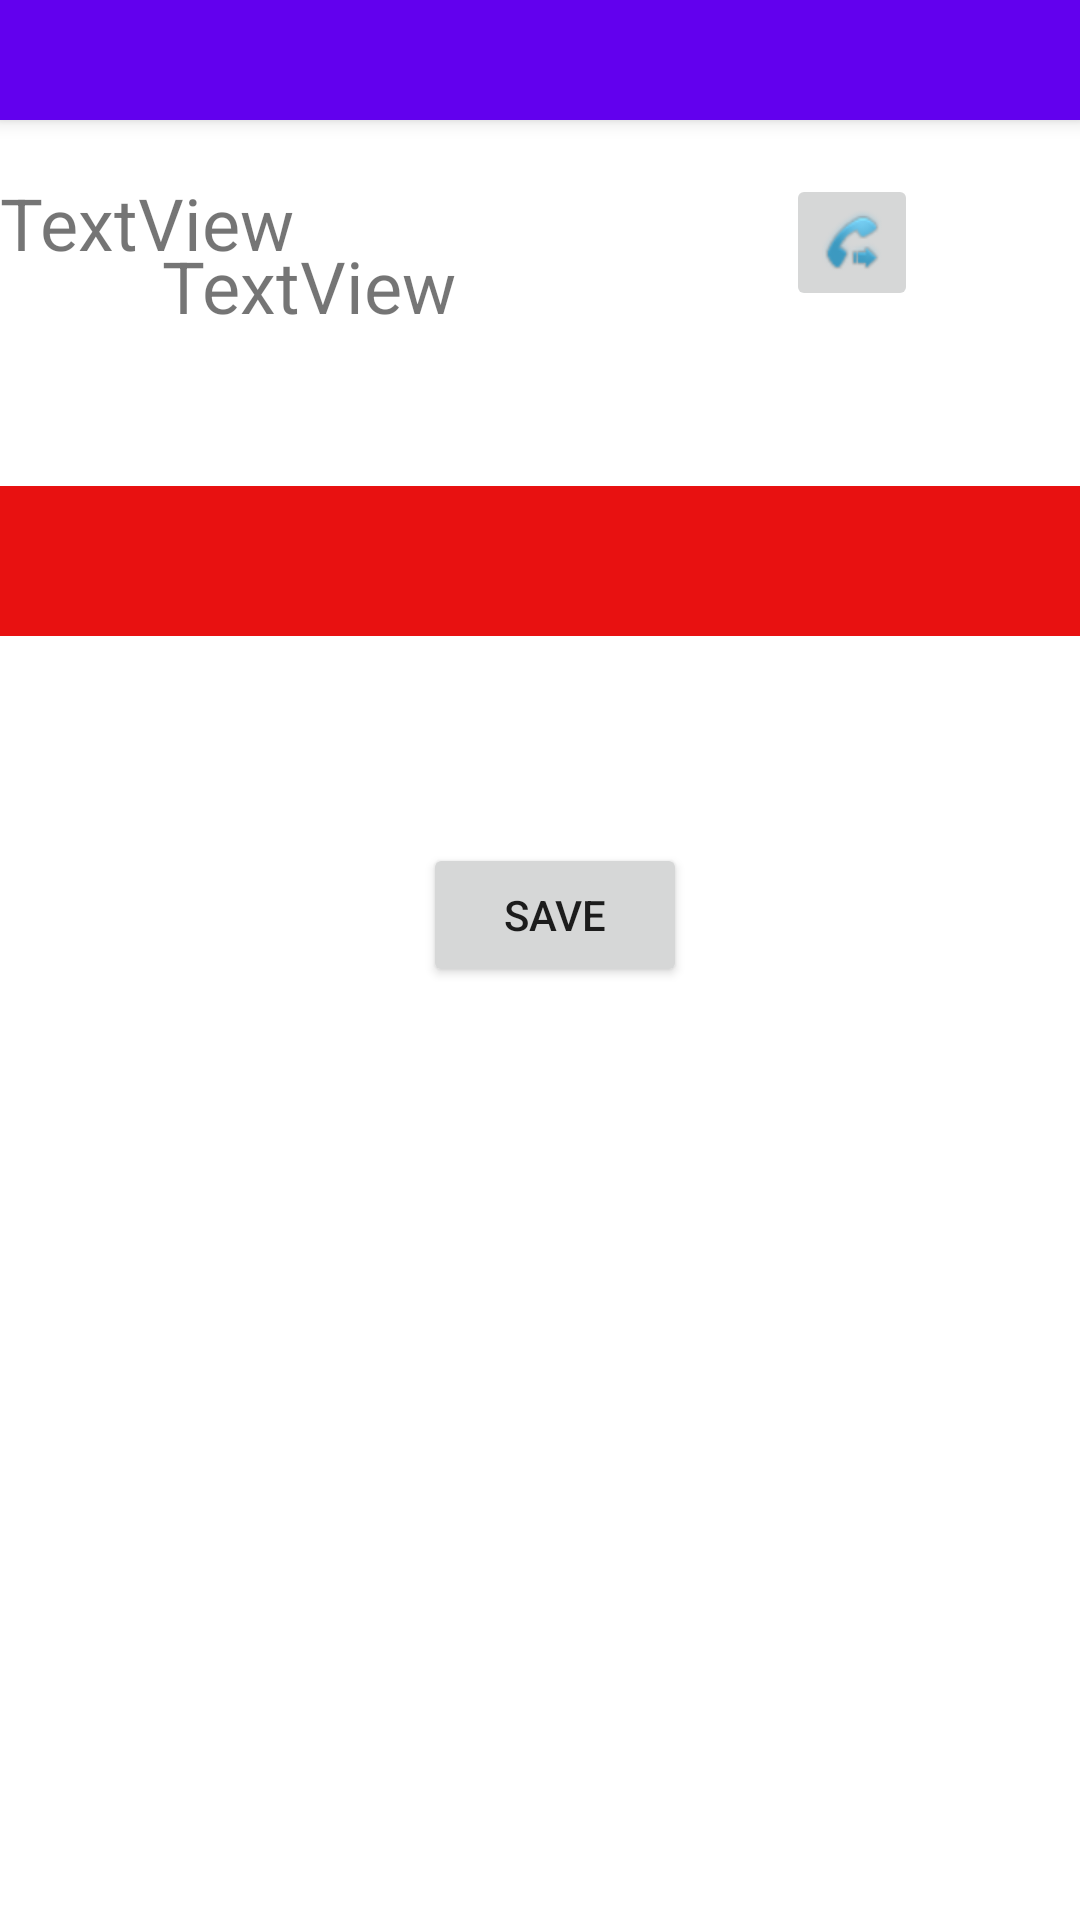

Icons on this 1080px×1920px Android screen, each with the point to tap as (x,y):
phone call forward: (852,242)
